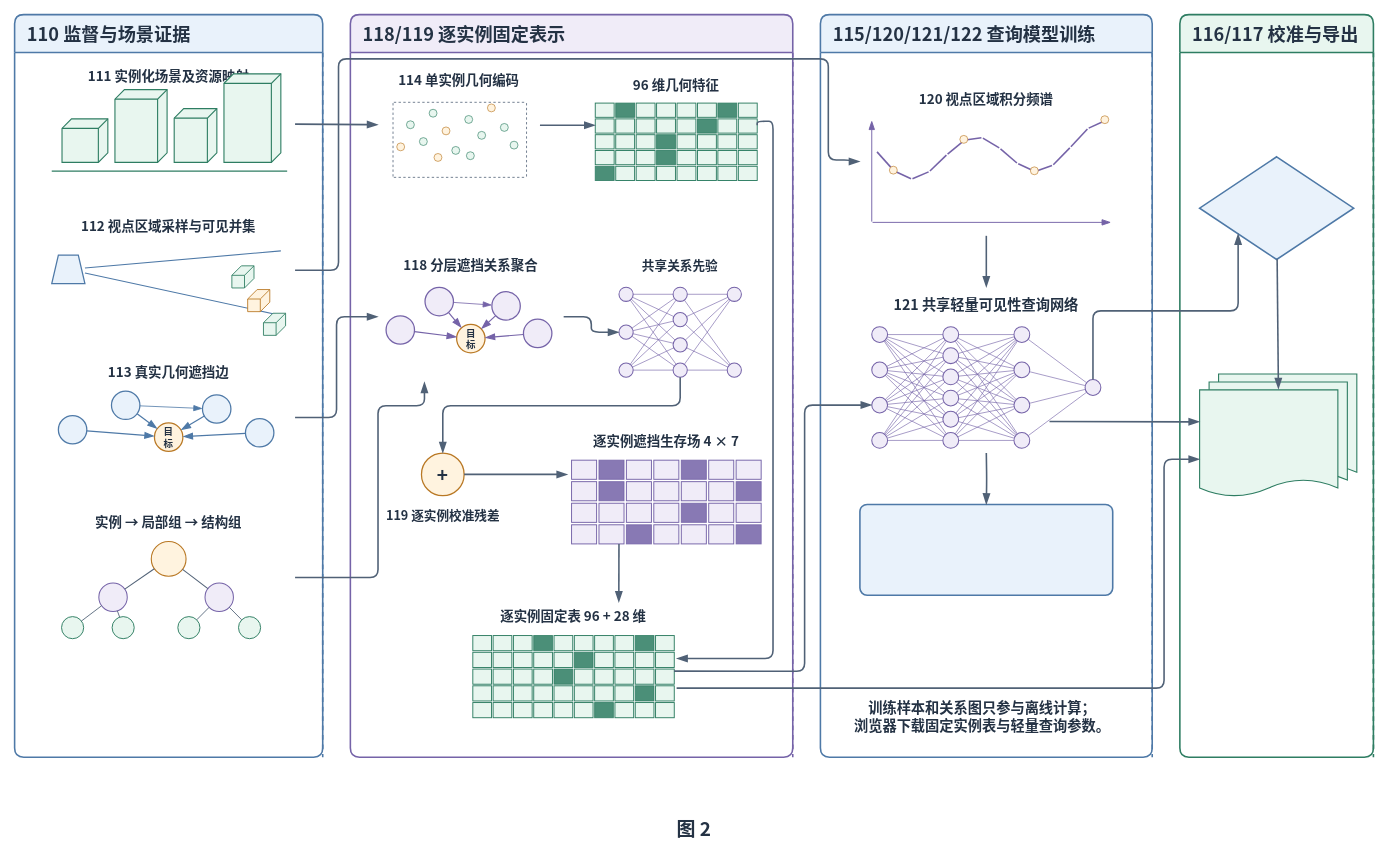
The diagram is 1387 pixels wide and 855 high, and some of its shapes have lost their labels. The shapes that lost their labels are listed below. From the top down, each one's centre as x and y in pixels, then its label:
At [1276,208]: "116 校准集 冻结显示阈值".
At [1268,443]: "117 浏览器运行包 固定表、网络权重 包围体、映射与阈值".
At [986,549]: "122 训练目标 逐姿态平衡分类 加权召回保护与边界间隔".
